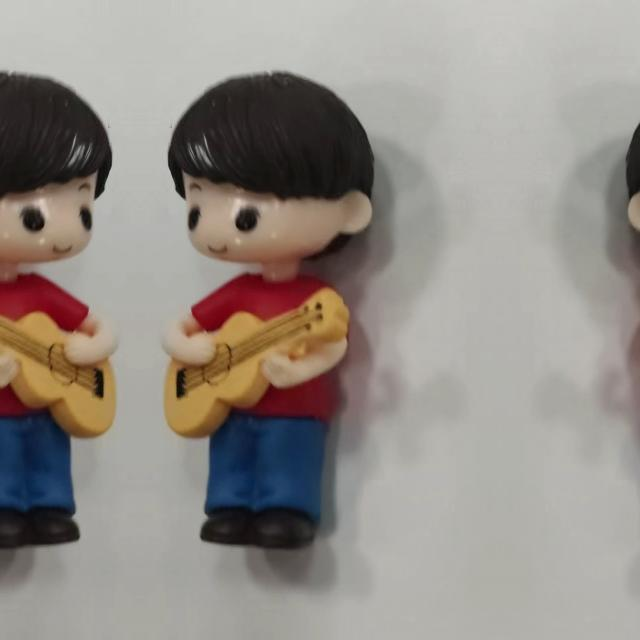man cloth: (191, 276, 351, 422), (0, 276, 89, 421)
man head: (164, 68, 378, 272), (0, 68, 116, 272), (621, 68, 640, 272)
trousers: (197, 423, 327, 552), (0, 423, 83, 552)
